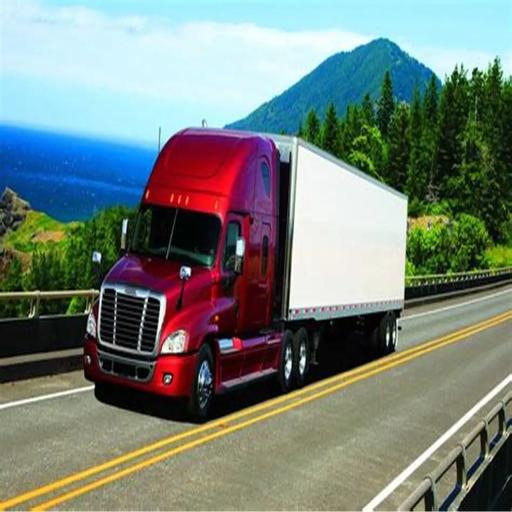truck: (82, 120, 409, 423)
